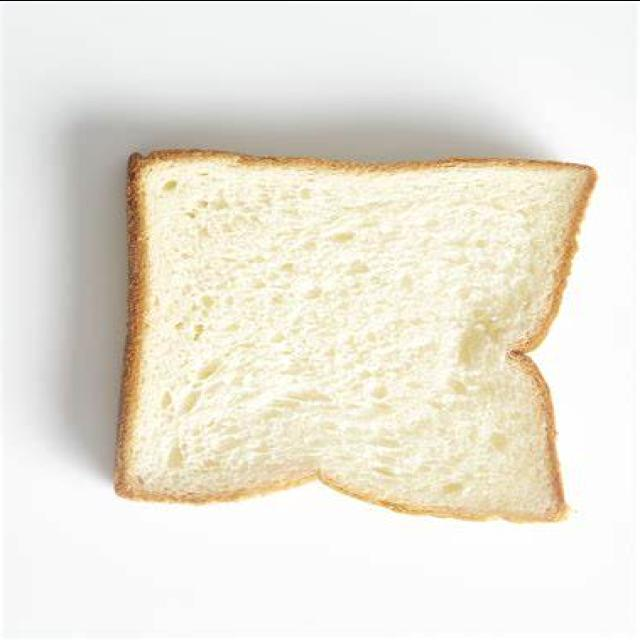roti tawar: (111, 146, 598, 525)
